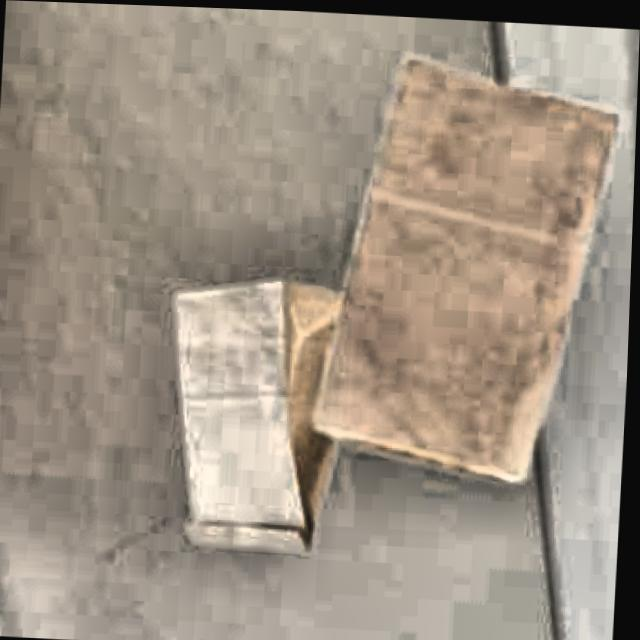Paper-bag: (315, 45, 626, 488), (144, 267, 363, 568)
